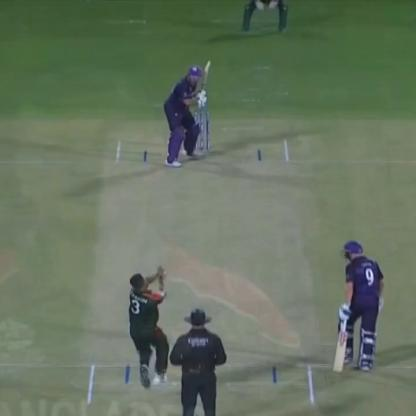pitch: (80, 133, 319, 404)
